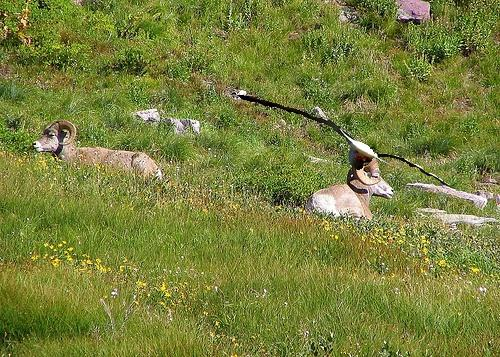tampered: (232, 94, 449, 186)
